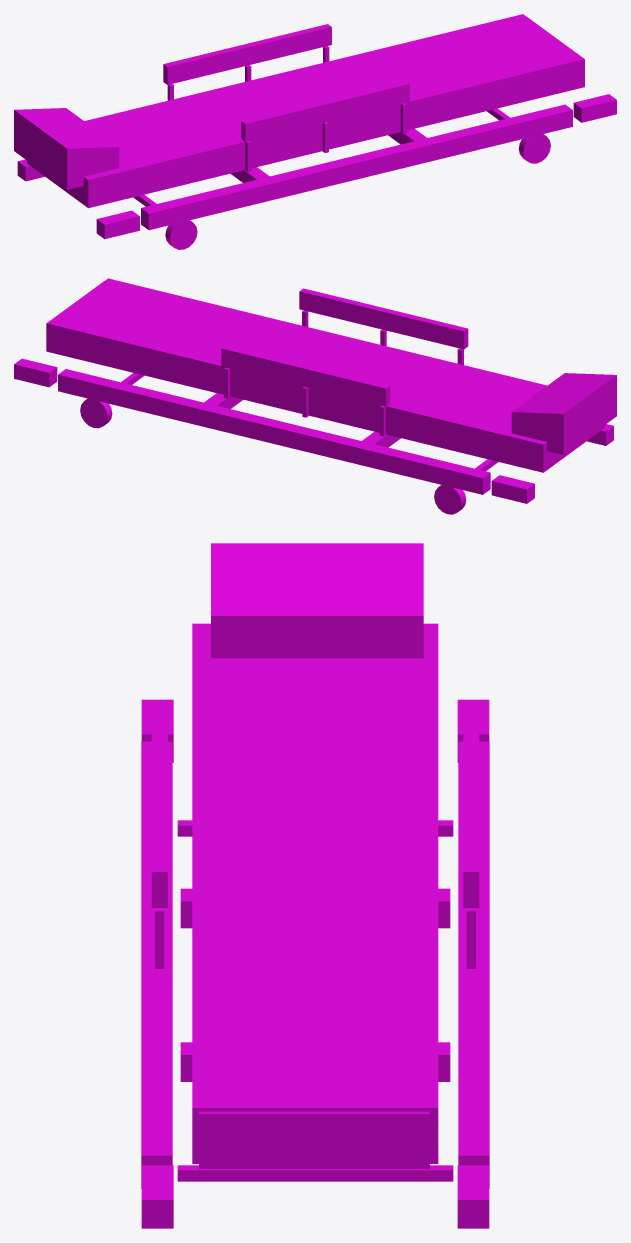
File: SM_StretcherCollider.fbx
3 views of the same model, one above another, from view 1: azimuth 30°, elevation 25°; view 2: azimuth 150°, elevation 25°; view 3: azimuth 270°, elevation 25° (orthographic). The views are drawn at different scales.
Visible parts, largest first — view 1: StretcherCollision; view 2: StretcherCollision; view 3: StretcherCollision.
Part boxes in pixels (bbox=[...]): StretcherCollision: bbox=[14, 14, 616, 249]; StretcherCollision: bbox=[14, 278, 616, 514]; StretcherCollision: bbox=[141, 543, 489, 1228].
Size of the model in its own units: 197 by 40.31 by 55.8.
